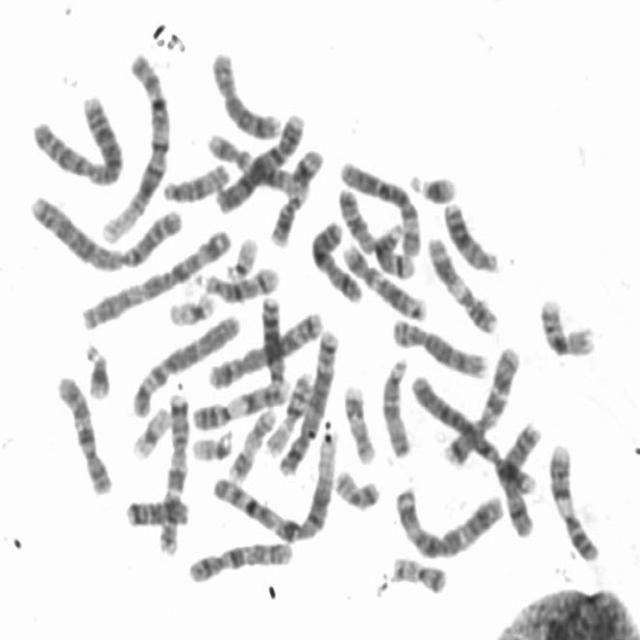A1: (208, 422, 340, 546), (94, 45, 173, 246)
A2: (20, 183, 185, 273), (24, 86, 126, 187)
A3: (75, 220, 234, 331), (388, 477, 506, 561)
B4: (405, 366, 539, 496), (210, 105, 308, 215)
B5: (202, 302, 326, 391), (272, 321, 341, 478)
C10: (49, 366, 114, 497), (181, 532, 296, 586)
C11: (421, 226, 502, 336), (263, 139, 326, 249)
C12: (336, 235, 430, 322), (201, 123, 302, 196)
C6: (125, 304, 243, 419), (333, 151, 424, 262)
C7: (438, 338, 522, 469), (154, 382, 193, 556)
C8: (205, 41, 282, 141), (384, 308, 490, 380)
C9: (542, 433, 603, 564), (186, 373, 292, 431)
D13: (436, 191, 502, 274), (256, 286, 288, 390)
D14: (193, 257, 282, 303), (368, 214, 417, 279)
D15: (375, 348, 413, 459), (156, 153, 230, 203)
E16: (260, 363, 315, 458), (532, 287, 599, 358)
E17: (222, 400, 278, 483), (337, 376, 379, 466)
E18: (336, 187, 380, 256), (119, 488, 190, 530)
F19: (125, 398, 172, 462), (162, 284, 217, 327)
F20: (384, 547, 449, 595), (328, 461, 382, 512)
G21: (79, 333, 113, 402), (404, 163, 458, 205)
G22: (219, 227, 261, 283), (186, 422, 236, 462)
X: (497, 413, 544, 540), (305, 212, 364, 304)
